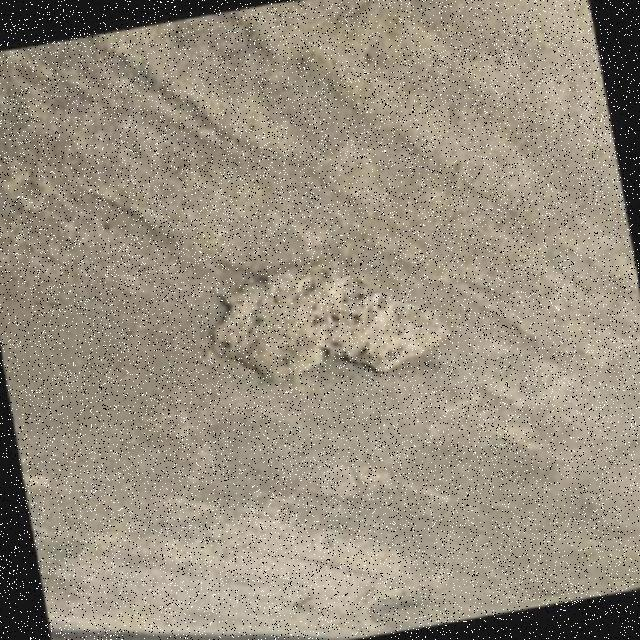Pothole: (210, 266, 451, 381)
